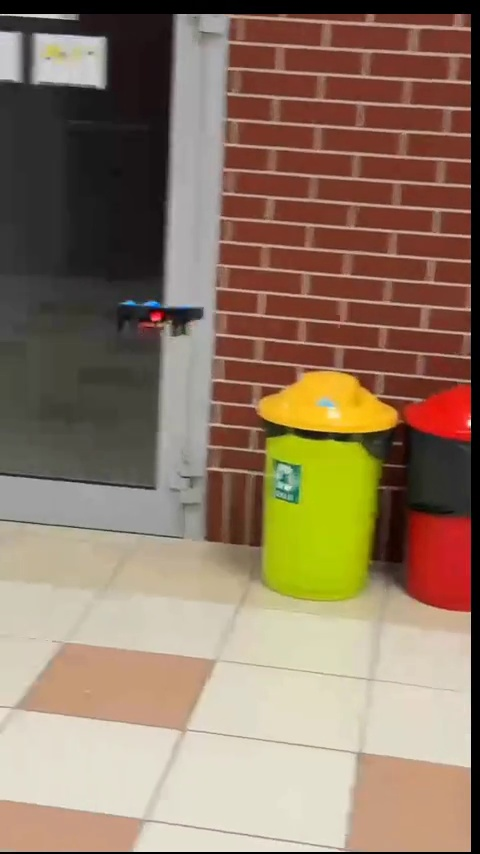drone: (114, 295, 207, 335)
